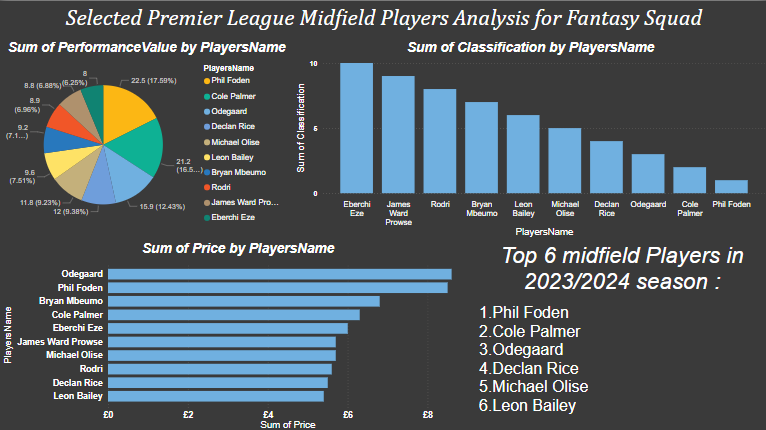

What the dashboard file says about the page in this screenshot:
{"tool":"powerbi","page":{"name":"Midfielders","canvas":[1280,720],"ordinal":2},"visuals":[{"type":"barChart","fields":{"Category":["The 10 Midfield Players Chosen (FinalMidfieldersChosen).PlayersName"],"Y":["The 10 Midfield Players Chosen (FinalMidfieldersChosen).Price"]},"box":[0,398.3,793.3,321.7],"z":0},{"type":"pieChart","fields":{"Y":["The 10 Midfield Players Chosen (FinalMidfieldersChosen).PerformanceValue"],"Category":["The 10 Midfield Players Chosen (FinalMidfieldersChosen).PlayersName"]},"box":[0,63.3,488.3,326.7],"z":1000},{"type":"columnChart","fields":{"Y":["The 10 Midfield Players Chosen (FinalMidfieldersChosen).Classification "],"Category":["The 10 Midfield Players Chosen (FinalMidfieldersChosen).PlayersName"]},"box":[488.3,63.3,791.7,335],"z":2000},{"type":"textbox","box":[793,398,487,322],"z":3000},{"type":"textbox","box":[0,0,1280,63.3],"z":4000}]}

Visuals, with their boxes in screenshot pixels (x1, y1, x2, y2), scaled from the page's 1280x720 canvas onto the 766x430 screenshot:
barChart - The 10 Midfield Players Chosen (FinalMidfieldersChosen).PlayersName x The 10 Midfield Players Chosen (FinalMidfieldersChosen).Price: <box>0,238,475,429</box>
pieChart - The 10 Midfield Players Chosen (FinalMidfieldersChosen).PerformanceValue x The 10 Midfield Players Chosen (FinalMidfieldersChosen).PlayersName: <box>0,38,292,233</box>
columnChart - The 10 Midfield Players Chosen (FinalMidfieldersChosen).Classification  x The 10 Midfield Players Chosen (FinalMidfieldersChosen).PlayersName: <box>292,38,765,238</box>
textbox: <box>475,238,765,429</box>
textbox: <box>0,0,765,38</box>
